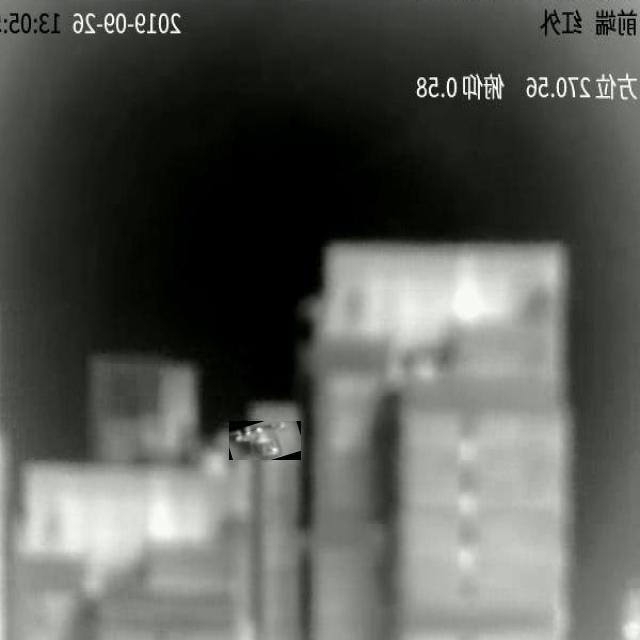drone: (229, 421, 286, 459)
